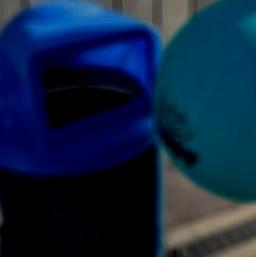algae: (151, 0, 256, 199)
